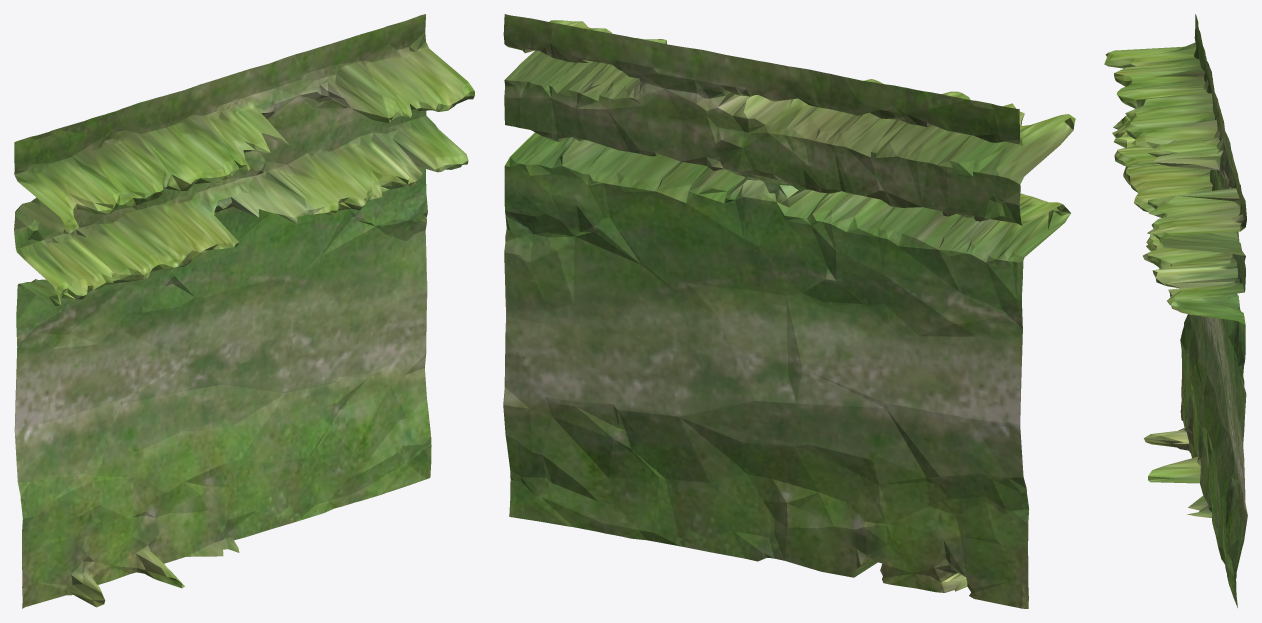
Rendered from map_10_20.obj.
3 renders of one model, left to right at view 1: azimuth 30°, elevation 25°; view 2: azimuth 150°, elevation 25°; view 3: azimuth 270°, elevation 25°, orthographic. The views are drawn at different scales.
Visible parts, largest first — view 1: grp1; view 2: grp1; view 3: grp1.
Boxes of the visible parts, x1=… form: grp1: x1=14, y1=14, x2=474, y2=608; grp1: x1=503, y1=14, x2=1075, y2=608; grp1: x1=1104, y1=14, x2=1247, y2=607.
Size of the model in its own units: 10 by 10 by 3.21.
Materials: 1 (1 with a texture image).
